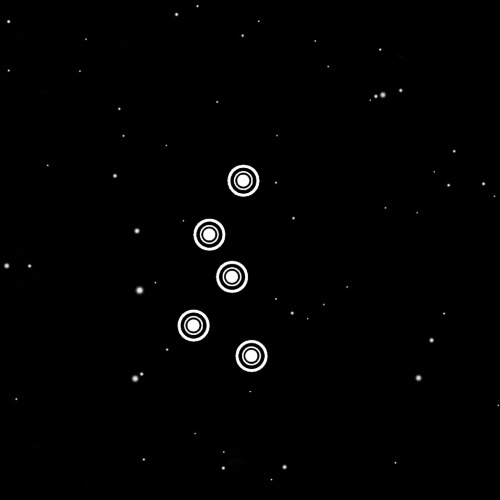cassiopeia: (169, 154, 277, 379)
